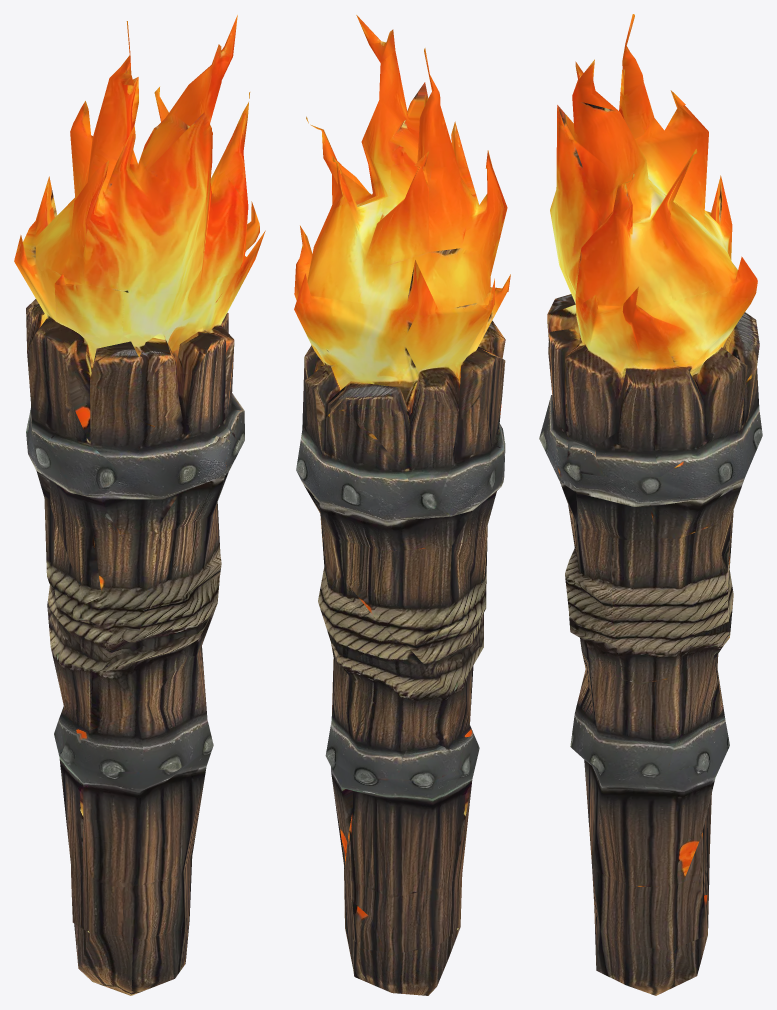
File: torch.glb
3 renders of one model, left to right at view 1: azimuth 30°, elevation 25°; view 2: azimuth 150°, elevation 25°; view 3: azimuth 270°, elevation 25°, orthographic. The views are drawn at different scales.
Size of the model in its own units: 0.4466 by 1.9 by 0.399.
Materials: 1 (1 with a texture image).
